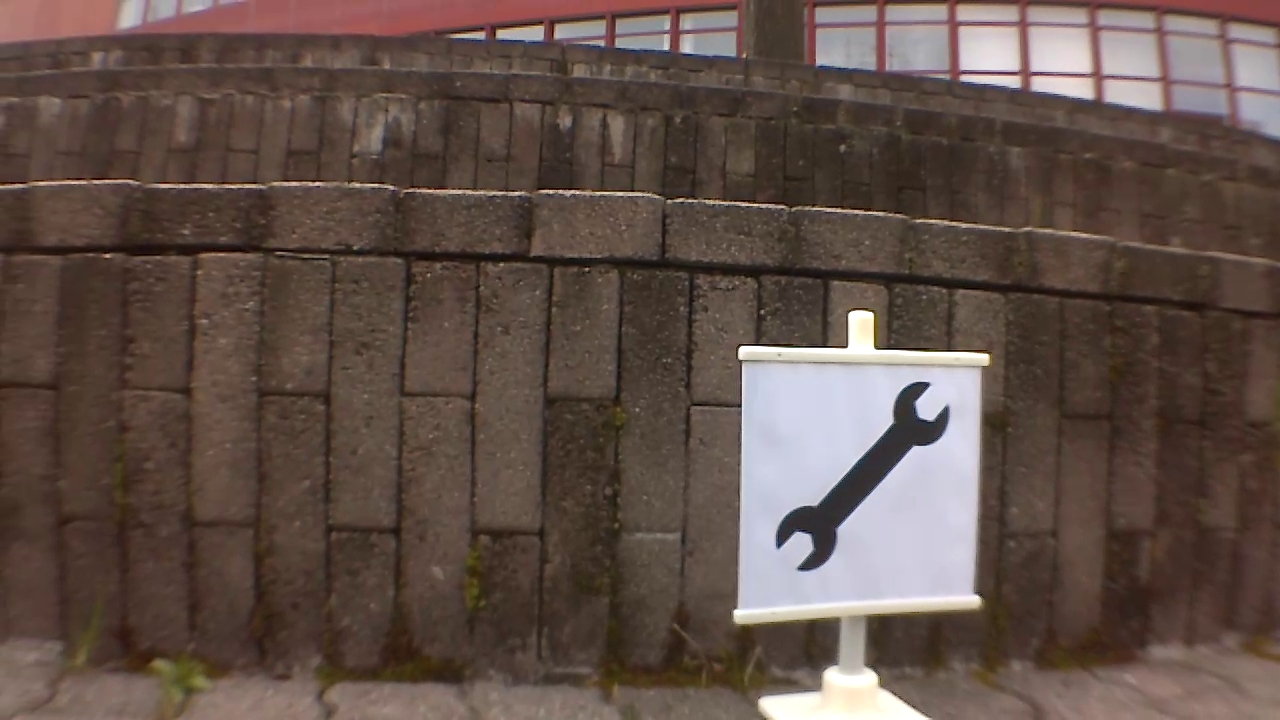wrench: (774, 381, 956, 575)
